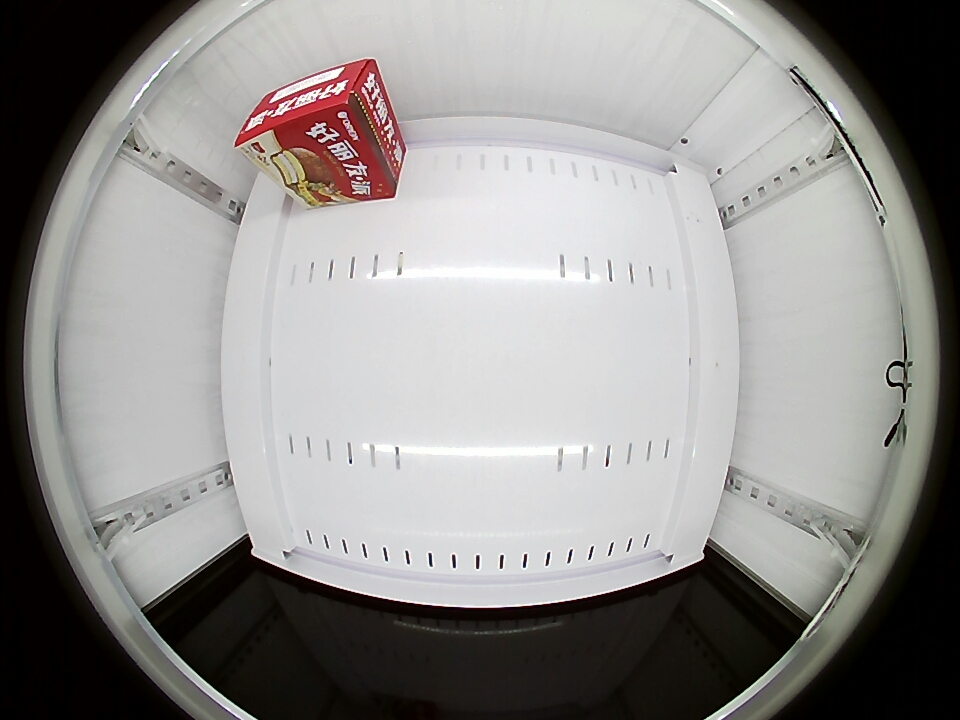haoliyou: (235, 59, 382, 169)
